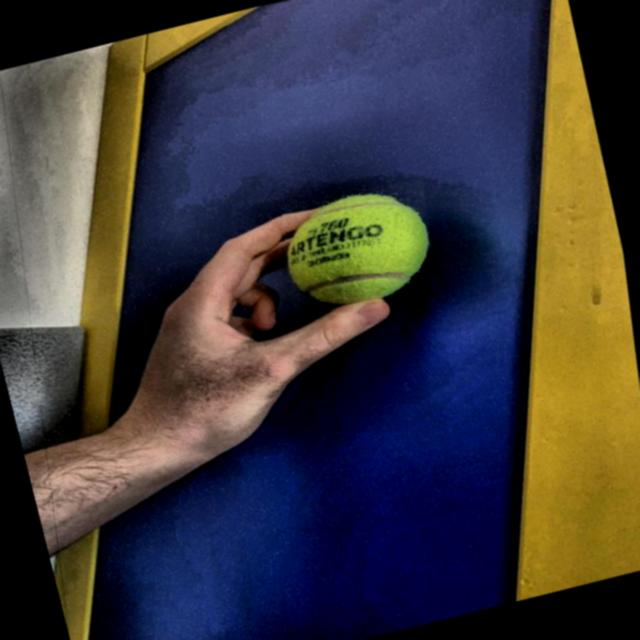tennis-ball: (270, 170, 452, 324)
